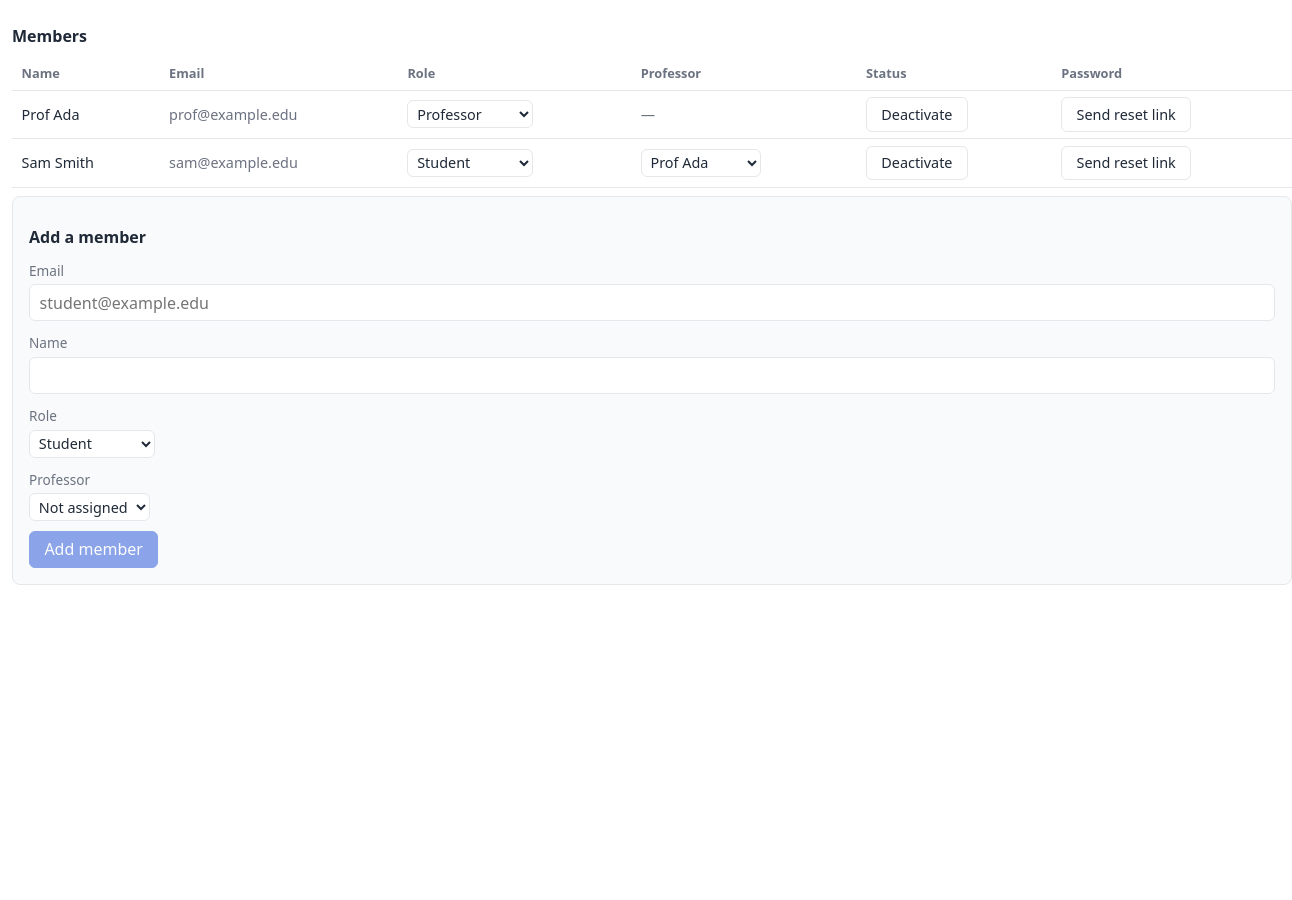
Test: /org/:id — the members table › shows the reset link, once, when the reset mail could not be sent
Expected: the text "Sam Smith" is shown, [12,139,160,187]
Click the button "Send reset link" in the row of "Sam Smith": (1126,163) [1061,146,1191,180]
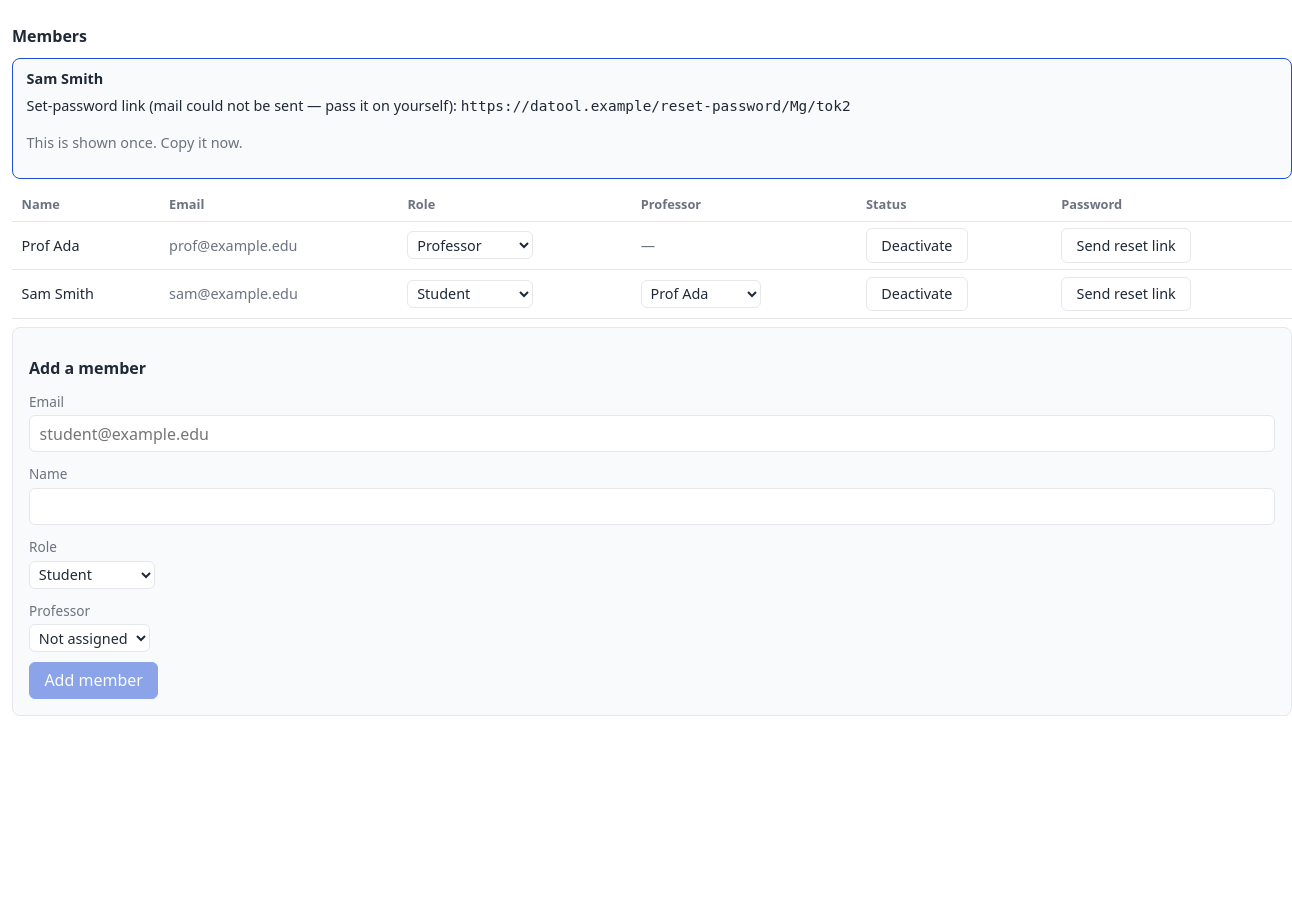
Expected: the text "https://datool.example/reset-password/Mg/tok2" is shown, [461,98,851,114]
